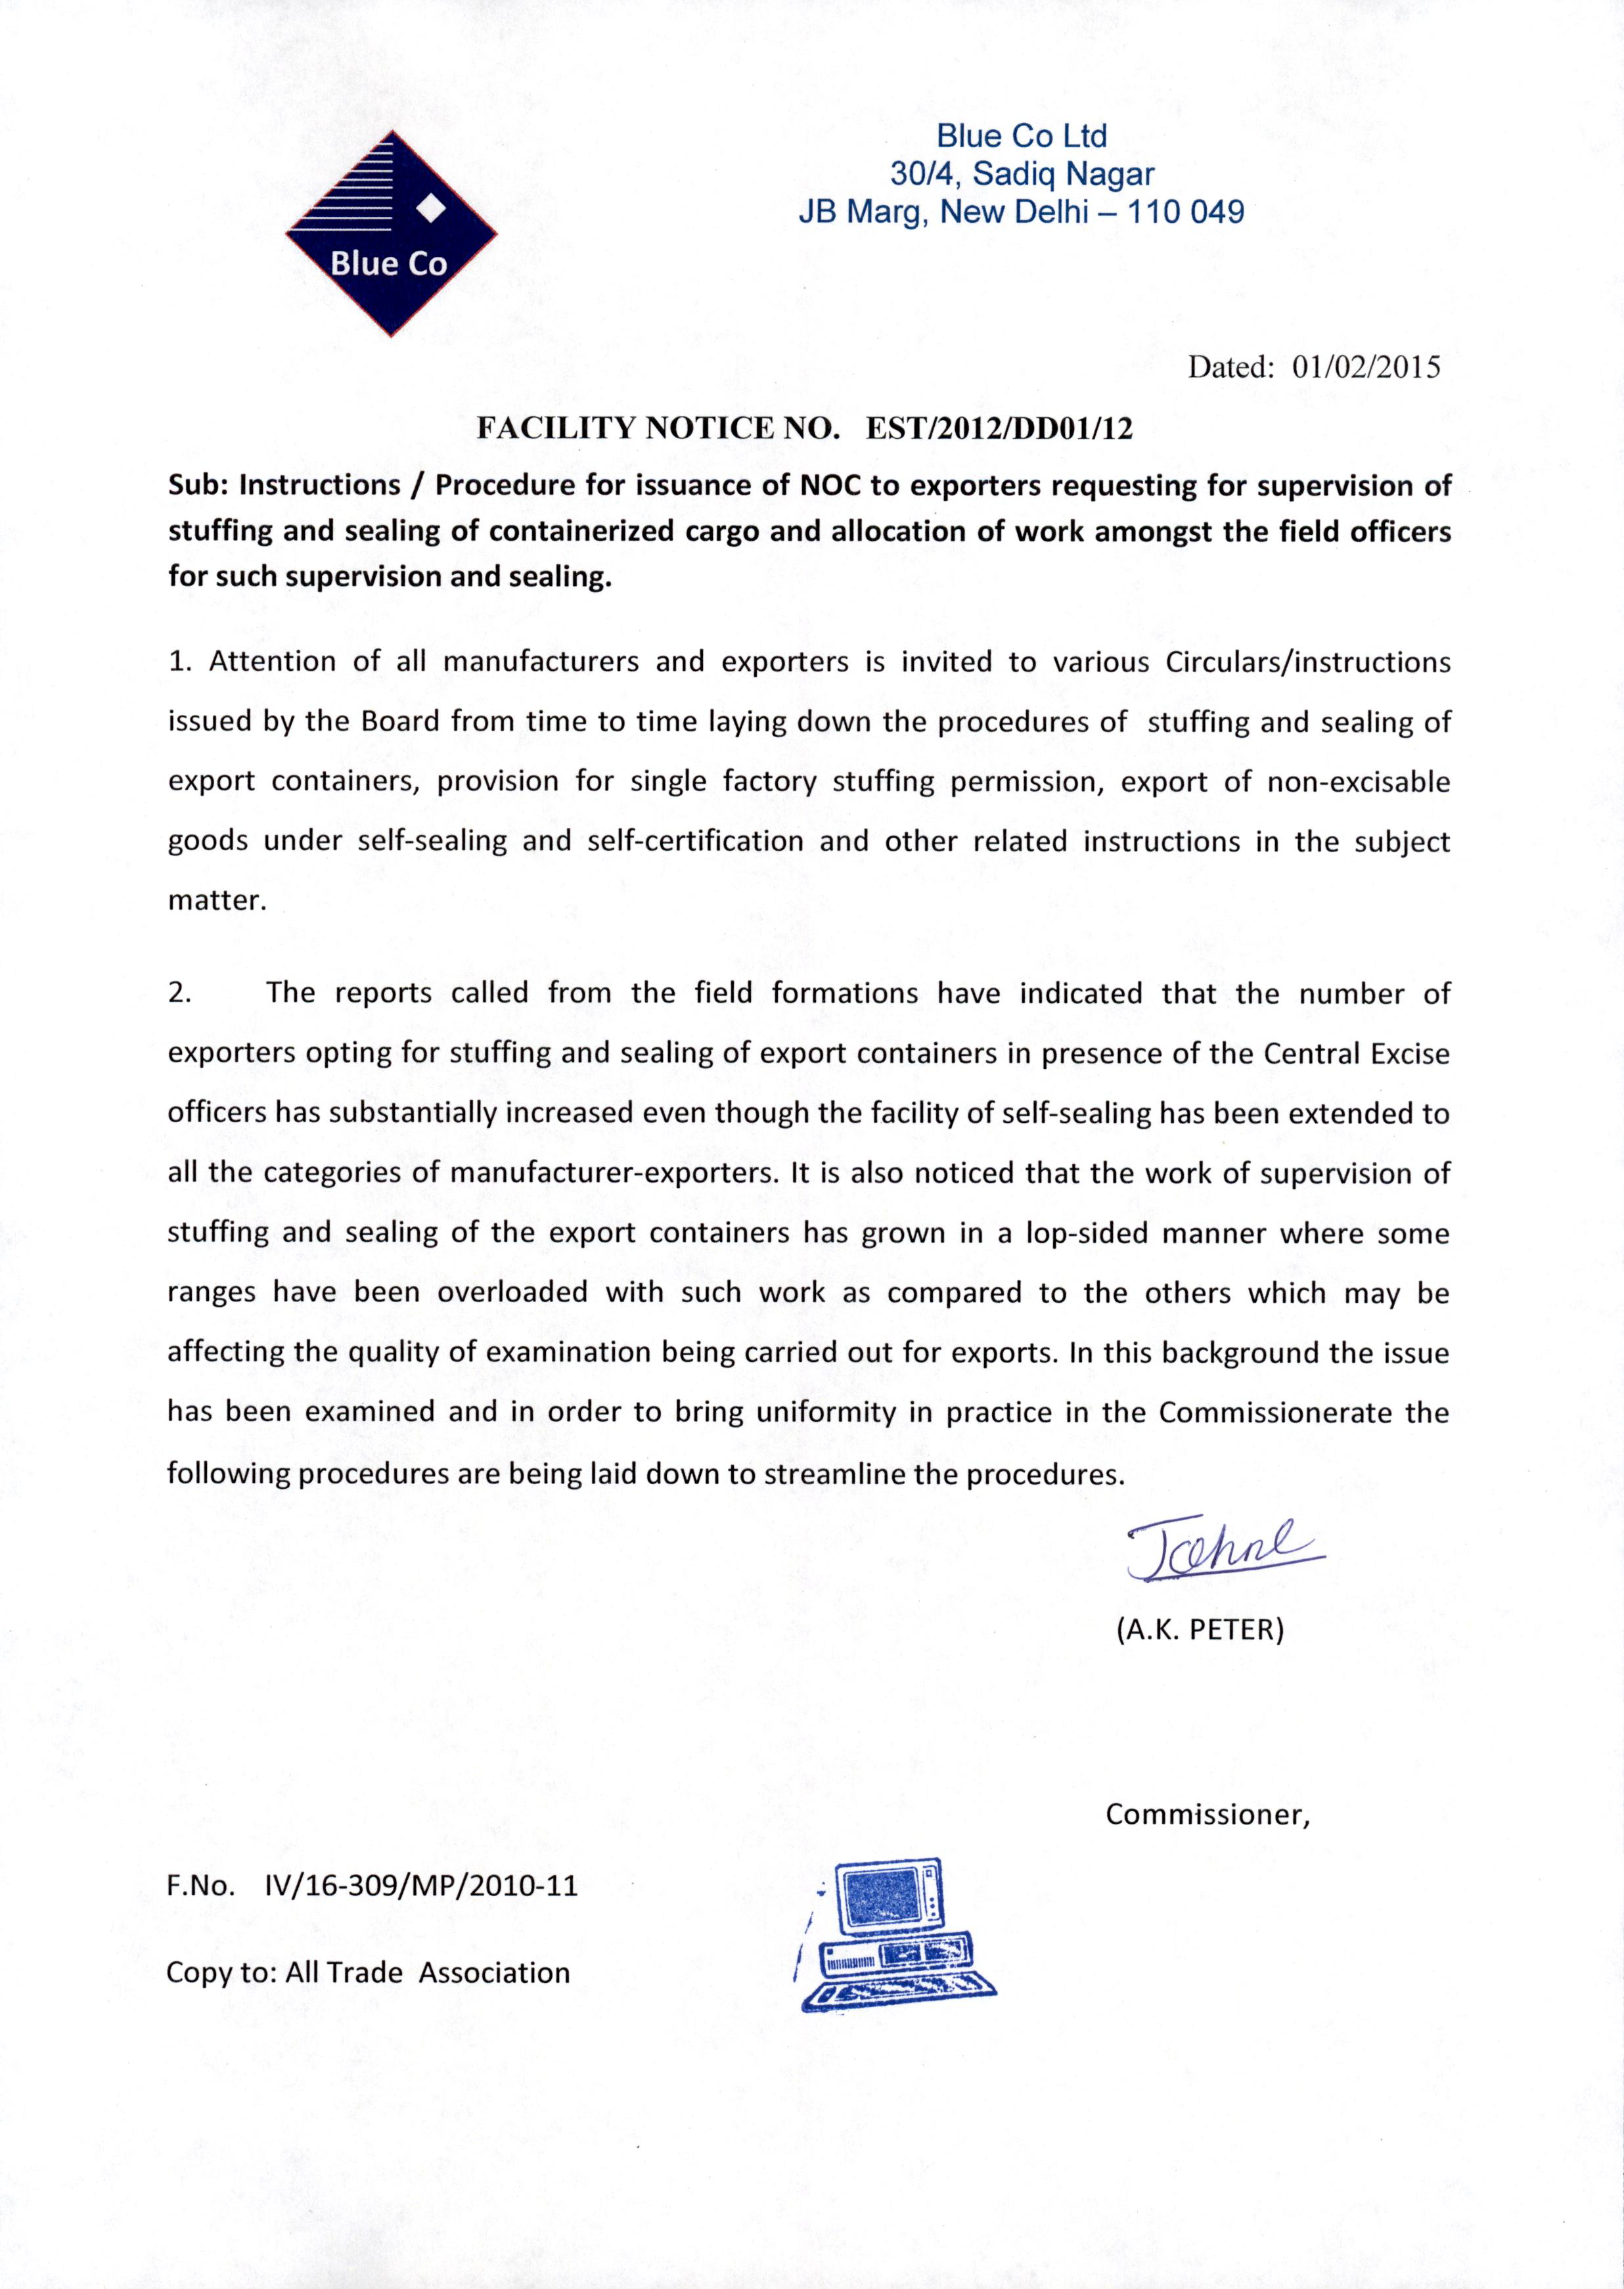Signature: (1118, 1501, 1338, 1589)
